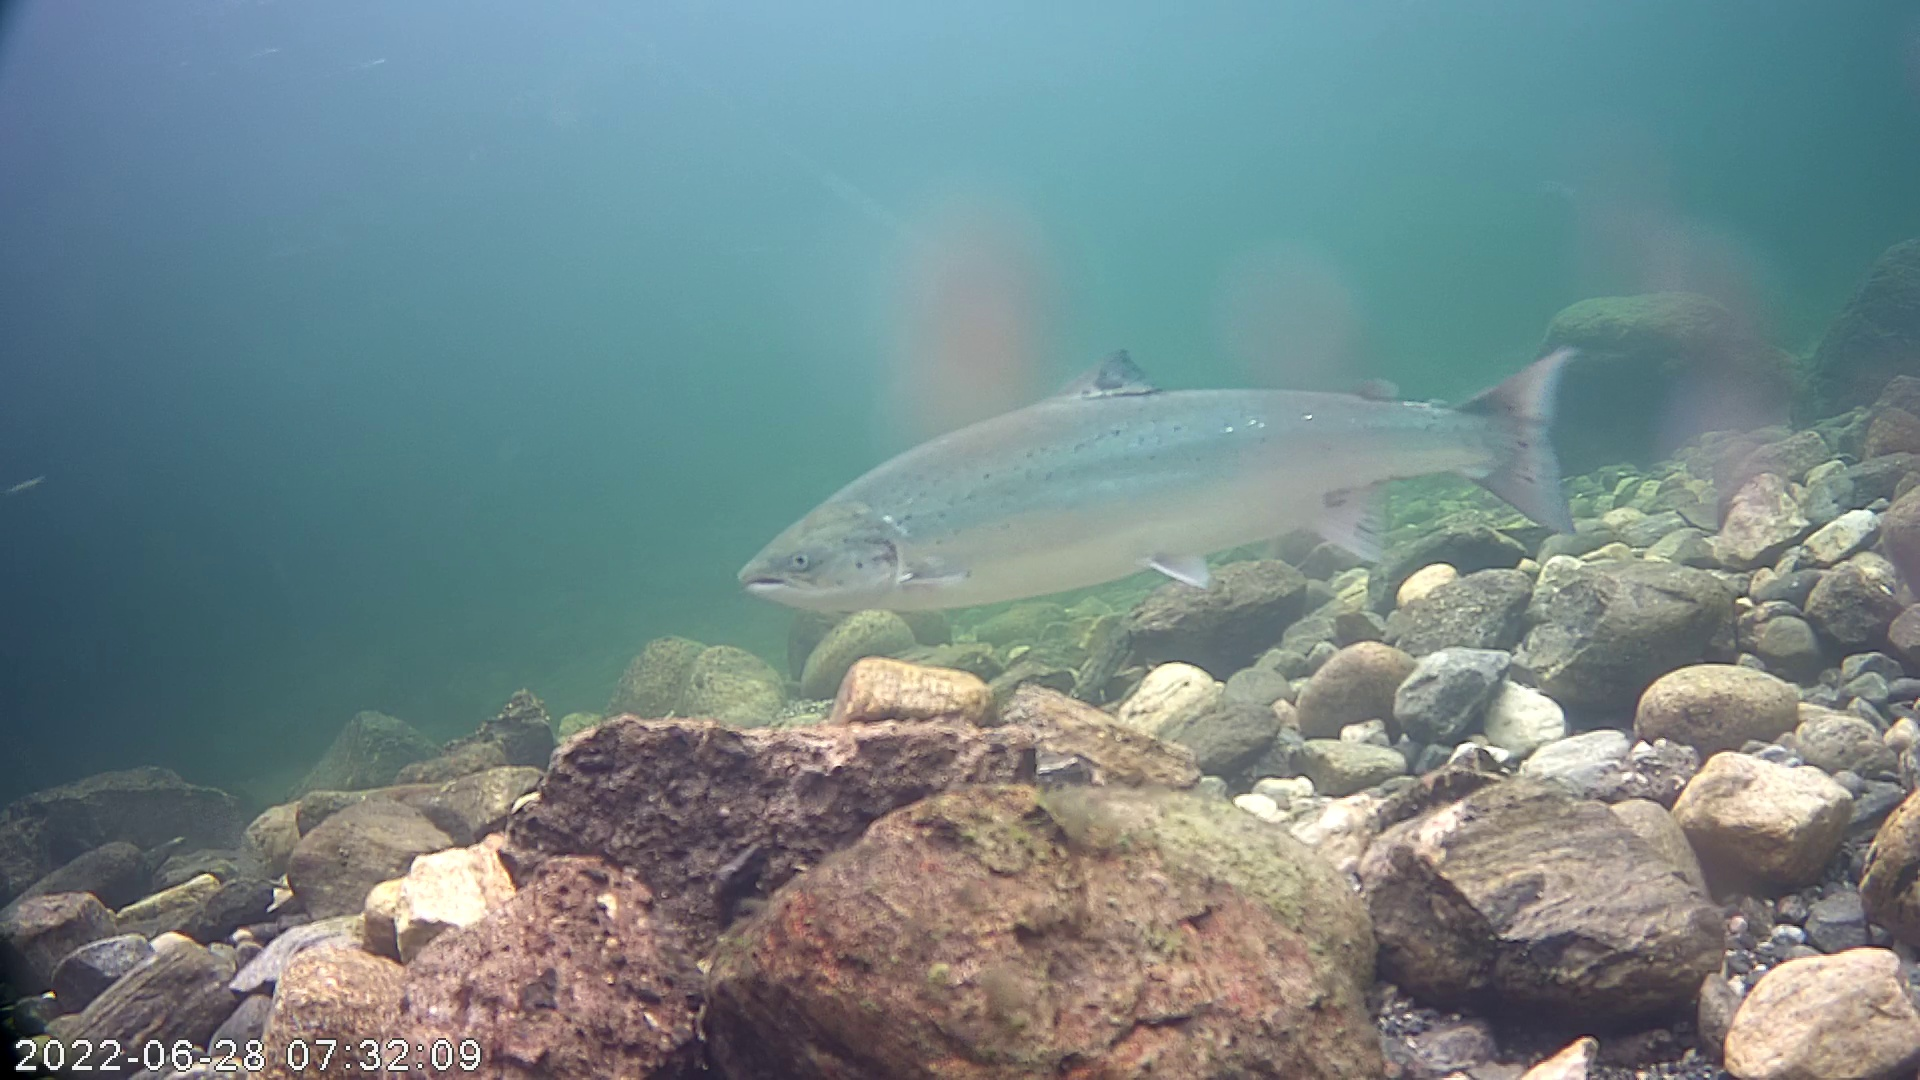salmon: (727, 245, 1611, 670)
